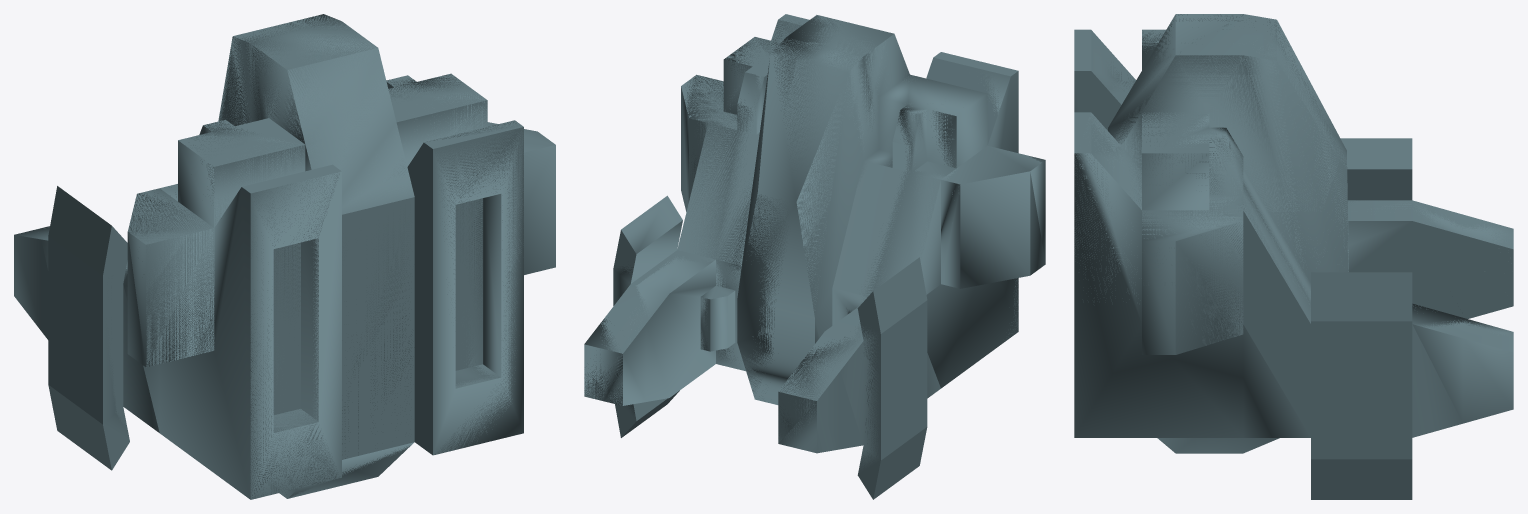
The model's file is space-kit__craft_miner.glb.
The picture shows the model from 3 angles, left to right: view 1: azimuth 30°, elevation 25°; view 2: azimuth 150°, elevation 25°; view 3: azimuth 270°, elevation 25°; orthographic projection. The views are drawn at different scales.
Parts seen in each view (by area): view 1: L0_dark, L1_dark; view 2: L1_dark, L0_dark; view 3: L1_dark, L0_dark.
Part boxes in pixels (bbox=[...]): L0_dark: bbox=[37, 15, 555, 499]; L1_dark: bbox=[14, 14, 555, 499]; L1_dark: bbox=[584, 14, 1045, 499]; L0_dark: bbox=[584, 14, 1041, 499]; L1_dark: bbox=[1074, 14, 1513, 499]; L0_dark: bbox=[1074, 14, 1513, 406].
Bounding box in the file's own units: 1 × 1 × 1.
